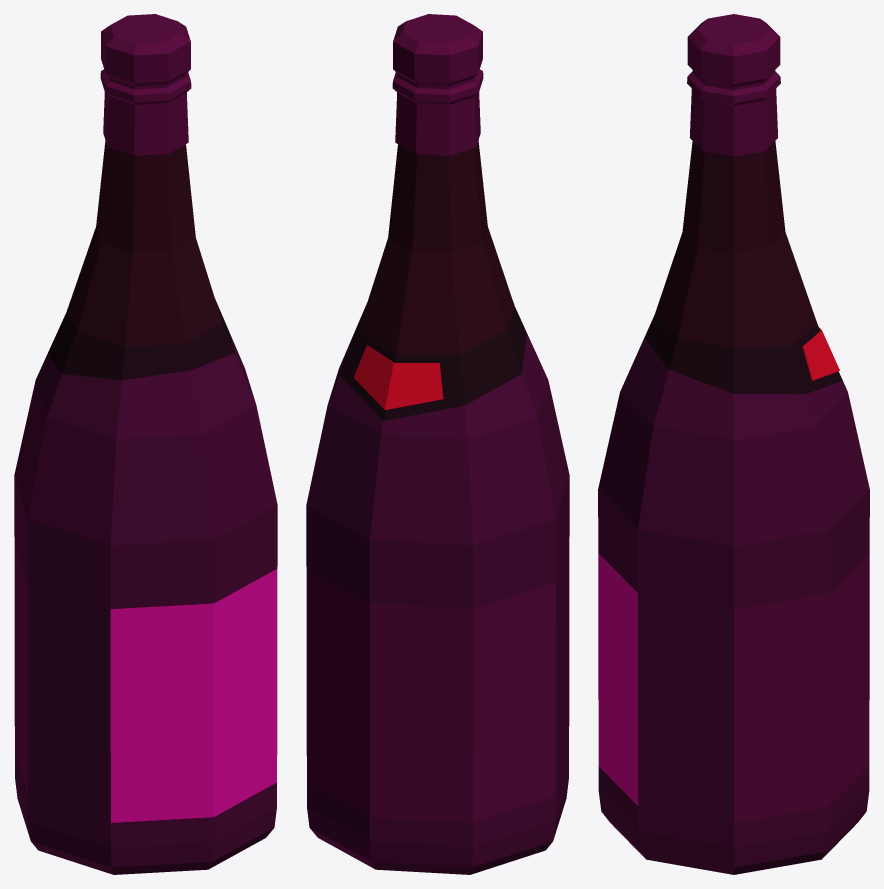
Rendered from BottleOfChampagne_01.fbx.
3 renders of one model, left to right at view 1: azimuth 30°, elevation 25°; view 2: azimuth 150°, elevation 25°; view 3: azimuth 270°, elevation 25°, orthographic.
Parts seen in each view (by area): view 1: BottleOfChampagne_01; view 2: BottleOfChampagne_01; view 3: BottleOfChampagne_01.
Boxes of the visible parts, bbox=[...] form: BottleOfChampagne_01: bbox=[14, 14, 277, 874]; BottleOfChampagne_01: bbox=[306, 14, 569, 874]; BottleOfChampagne_01: bbox=[598, 14, 869, 874].
Bounding box in the file's own units: 2.95 × 9.49 × 2.95.
